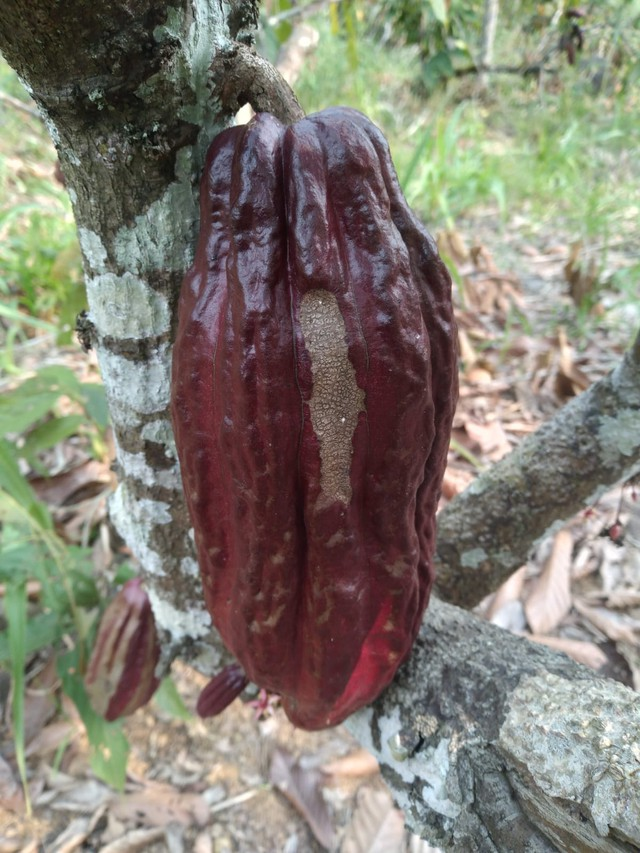phytophthora palmivora: (166, 94, 479, 744)
